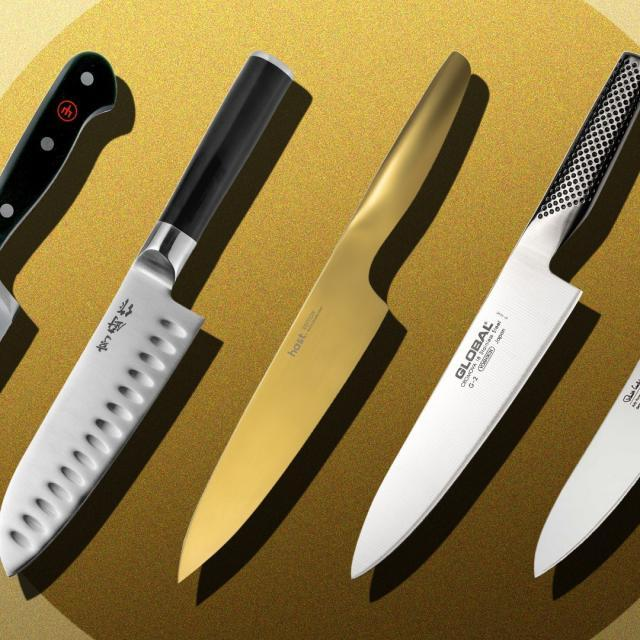knife: (131, 37, 539, 594), (1, 41, 322, 592), (336, 41, 640, 620)
